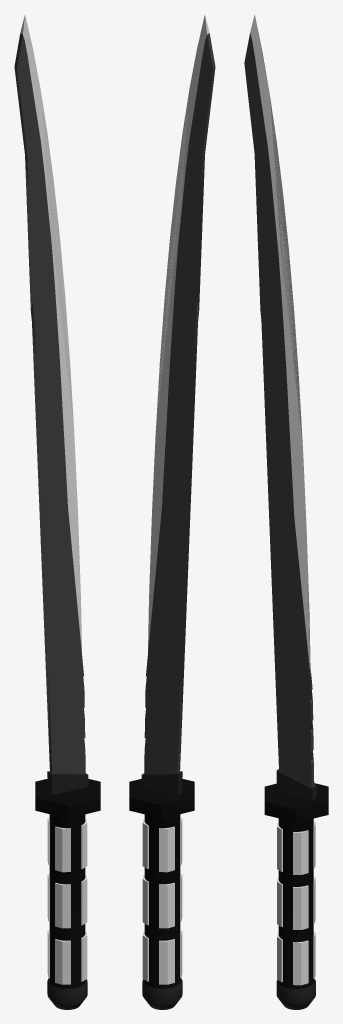
Rendered from Katana.fbx.
The picture shows the model from 3 angles, left to right: view 1: azimuth 30°, elevation 25°; view 2: azimuth 150°, elevation 25°; view 3: azimuth 330°, elevation 25°; orthographic projection. The views are drawn at different scales.
Visible parts, largest first — view 1: CourbeBézier.001, Cylindre.001, Plan, Cylindre; view 2: CourbeBézier.001, Cylindre.001, Plan, Cylindre; view 3: CourbeBézier.001, Cylindre.001, Plan, Cylindre.
Part boxes in pixels (<box>): CourbeBézier.001: <box>14,15,88,795</box>; Cylindre.001: <box>47,814,87,1009</box>; Plan: <box>47,817,87,984</box>; Cylindre: <box>35,778,100,818</box>; CourbeBézier.001: <box>141,15,215,795</box>; Cylindre.001: <box>142,814,182,1009</box>; Plan: <box>142,817,182,984</box>; Cylindre: <box>129,778,194,818</box>; CourbeBézier.001: <box>244,15,316,800</box>; Cylindre.001: <box>276,818,315,1009</box>; Plan: <box>277,821,315,985</box>; Cylindre: <box>264,783,328,822</box>.
Bounding box in the file's own units: 21.98 × 248 × 14.67.
